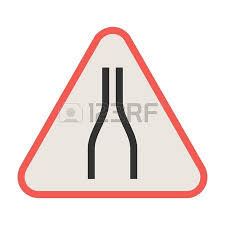Narrow_road: (16, 26, 209, 199)
